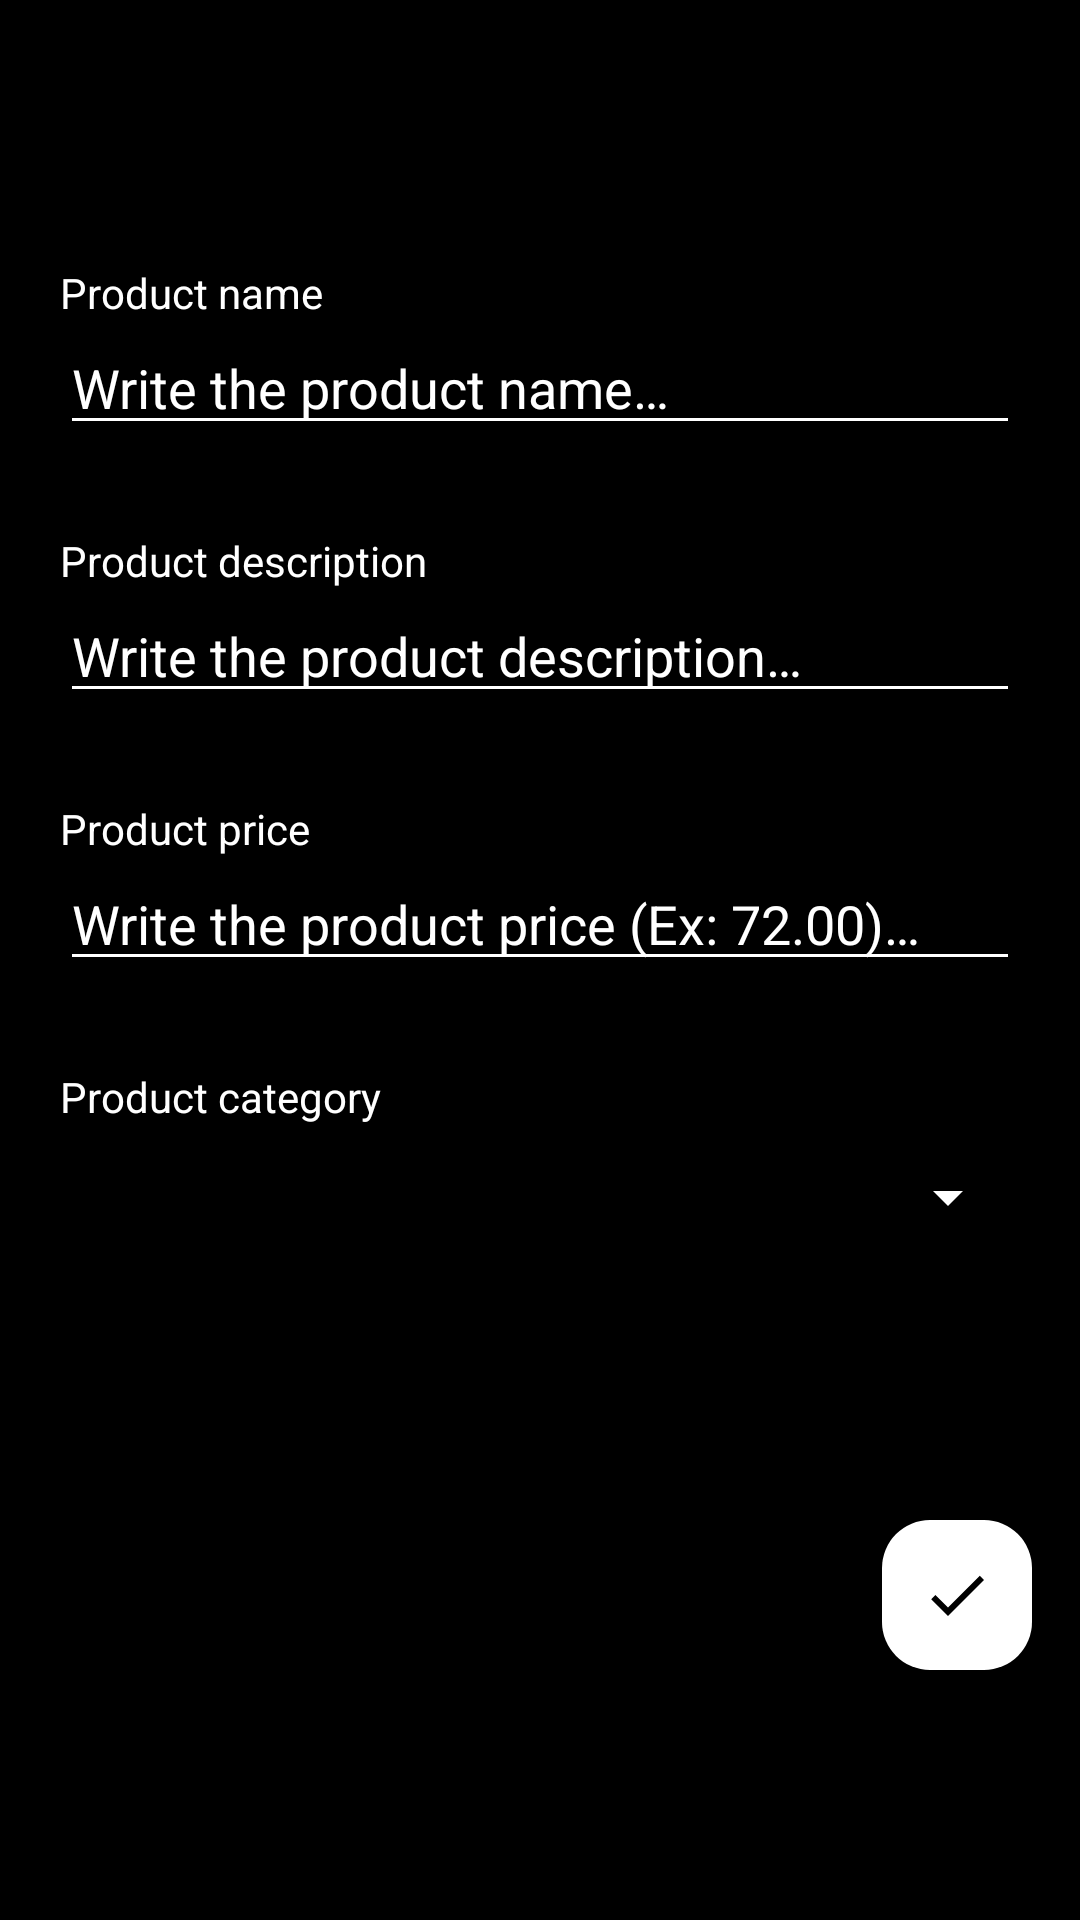

Icons on this 1080x1920 Android screen, each with its box as (x1, y1, x2, y2):
Submit: (882, 1520, 1032, 1670)
